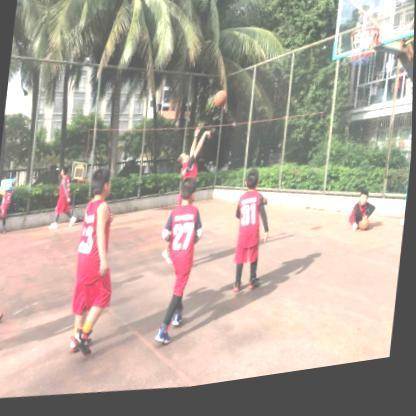basketball: (214, 96, 229, 117)
rim: (348, 36, 381, 81)
